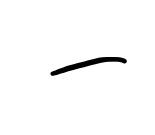minus: (51, 54, 126, 77)
